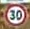limite 30: (3, 2, 27, 27)
